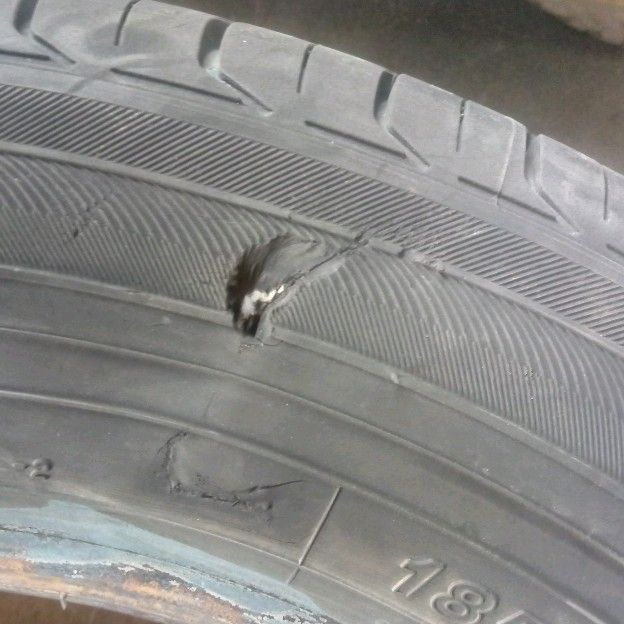cut: (225, 217, 403, 339)
